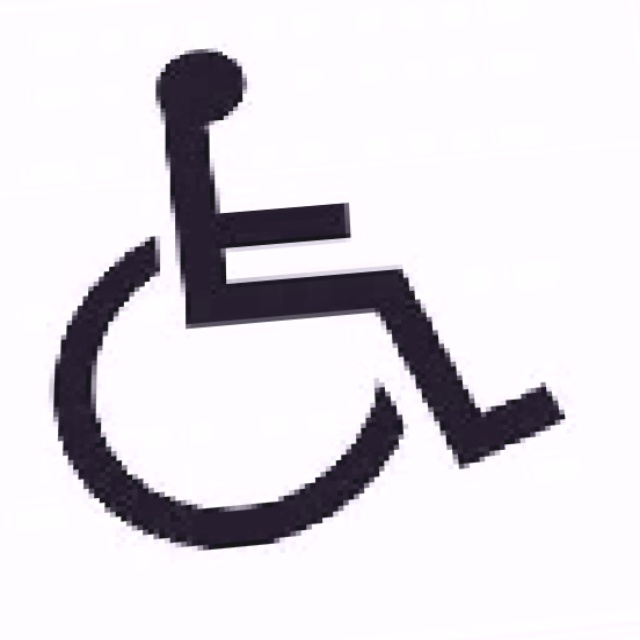ISA: (43, 20, 579, 574)
